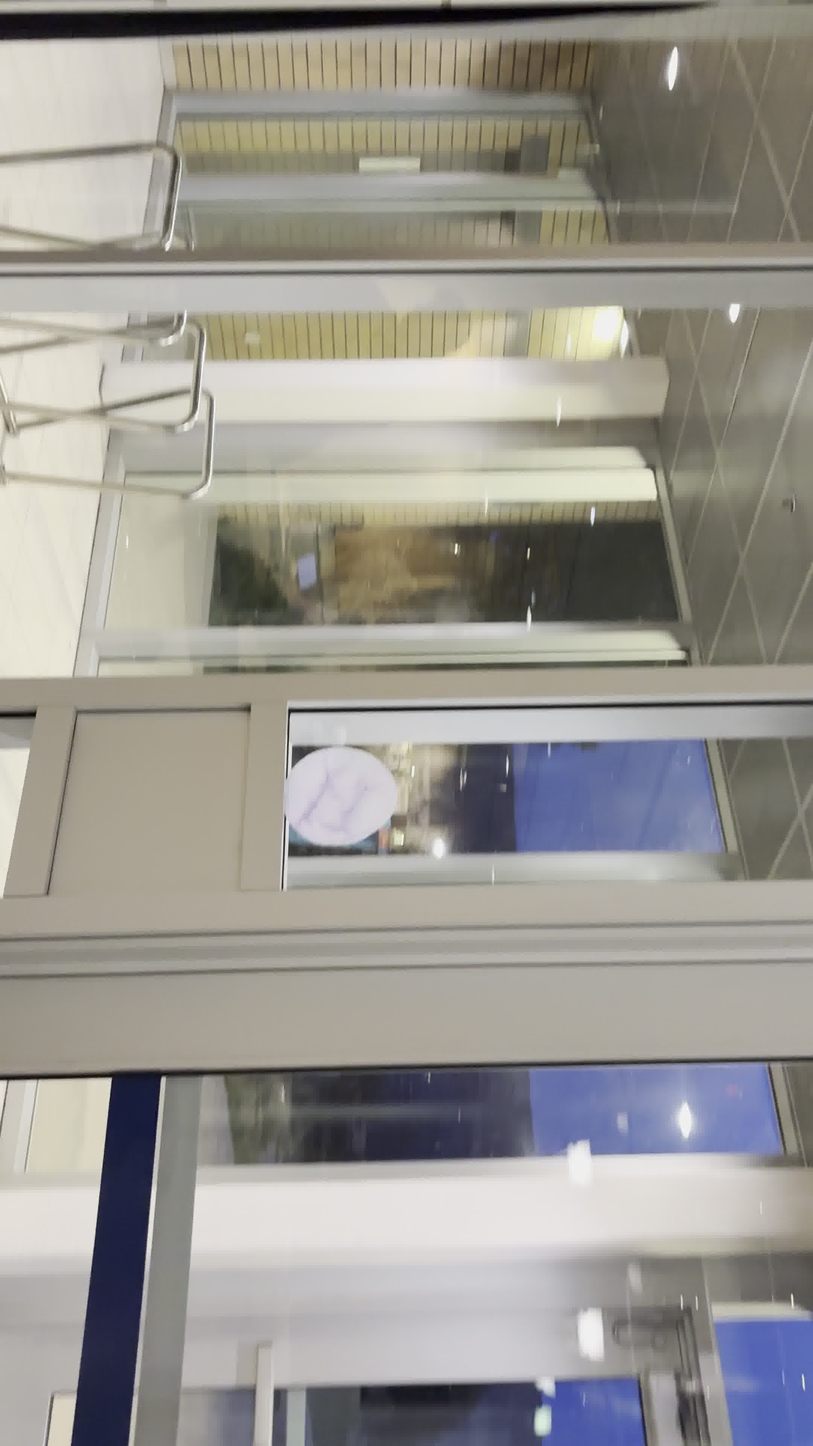Target: (282, 746, 399, 848)
